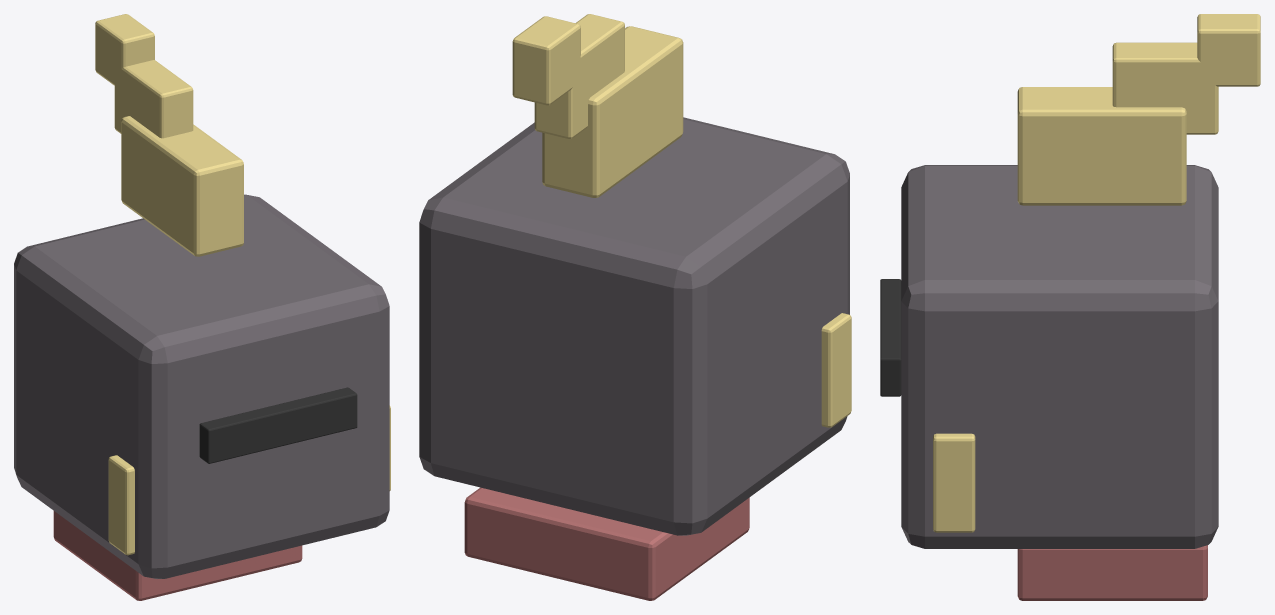
File: armor_cinderbloom_helm.glb
3 views of the same model, side by side, from view 1: azimuth 30°, elevation 25°; view 2: azimuth 150°, elevation 25°; view 3: azimuth 270°, elevation 25° (orthographic). The views are drawn at different scales.
Visible parts, largest first — view 1: Skull, Crest_a, Visor, Padding, Crest_b, Crest_c, Cheek_L; view 2: Skull, Padding, Crest_a, Crest_b, Crest_c, Cheek_L; view 3: Skull, Crest_a, Padding, Crest_b, Crest_c, Cheek_R, Visor.
Boxes of the visible parts, <box> form: Skull: <box>14,194,389,578</box>; Crest_a: <box>121,116,243,256</box>; Visor: <box>199,387,357,463</box>; Padding: <box>53,511,302,600</box>; Crest_b: <box>114,60,193,138</box>; Crest_c: <box>95,14,154,88</box>; Cheek_L: <box>108,455,134,555</box>; Skull: <box>419,117,849,535</box>; Padding: <box>464,487,749,600</box>; Crest_a: <box>542,26,683,197</box>; Crest_b: <box>534,14,624,138</box>; Crest_c: <box>512,16,580,105</box>; Cheek_L: <box>821,313,851,427</box>; Skull: <box>901,165,1218,548</box>; Crest_a: <box>1017,87,1186,205</box>; Padding: <box>1017,545,1207,600</box>; Crest_b: <box>1112,42,1218,134</box>; Crest_c: <box>1197,14,1260,86</box>; Cheek_R: <box>933,433,975,532</box>; Visor: <box>880,279,901,396</box>.
Bounding box in the file's own units: 0.32 × 0.56 × 0.36.
